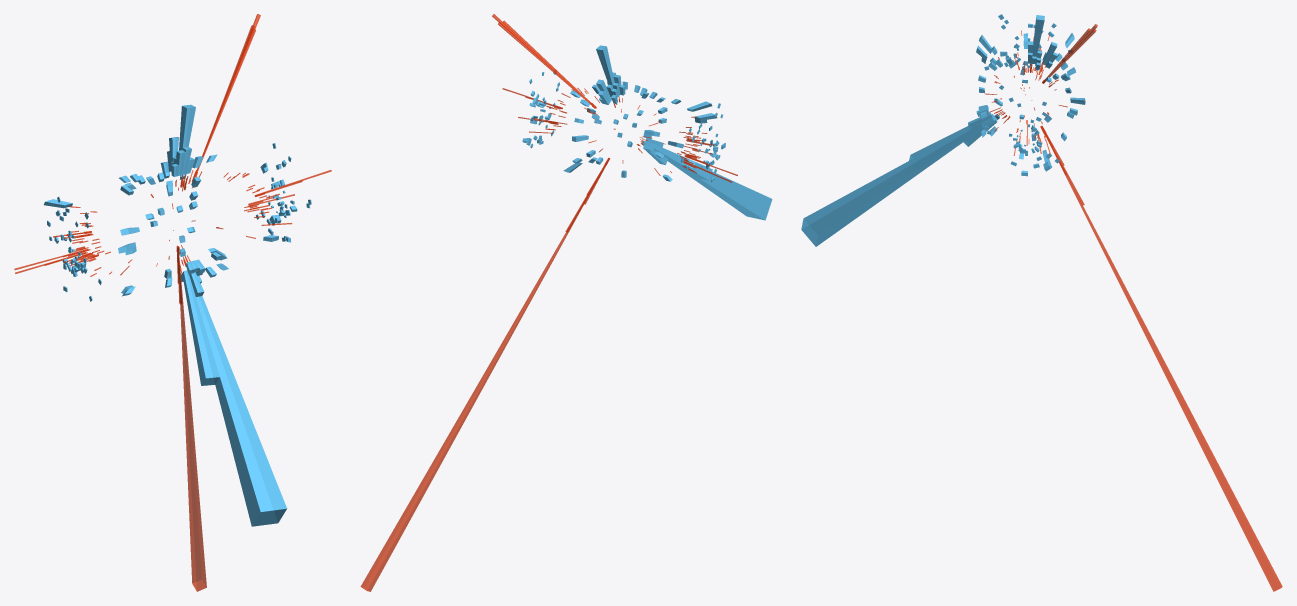
Rendered from Event_75125125_calo.fbx.
3 views of the same model, side by side, from view 1: azimuth 30°, elevation 25°; view 2: azimuth 150°, elevation 25°; view 3: azimuth 270°, elevation 25° (orthographic). The views are drawn at different scales.
Parts seen in each view (by area): view 1: Model; view 2: Model; view 3: Model.
Part boxes in pixels (x1,y1,x2,y2): Model: [14, 14, 331, 591]; Model: [360, 14, 772, 591]; Model: [801, 14, 1282, 591].
Bounding box in the file's own units: 33.73 × 64.47 × 51.39.
